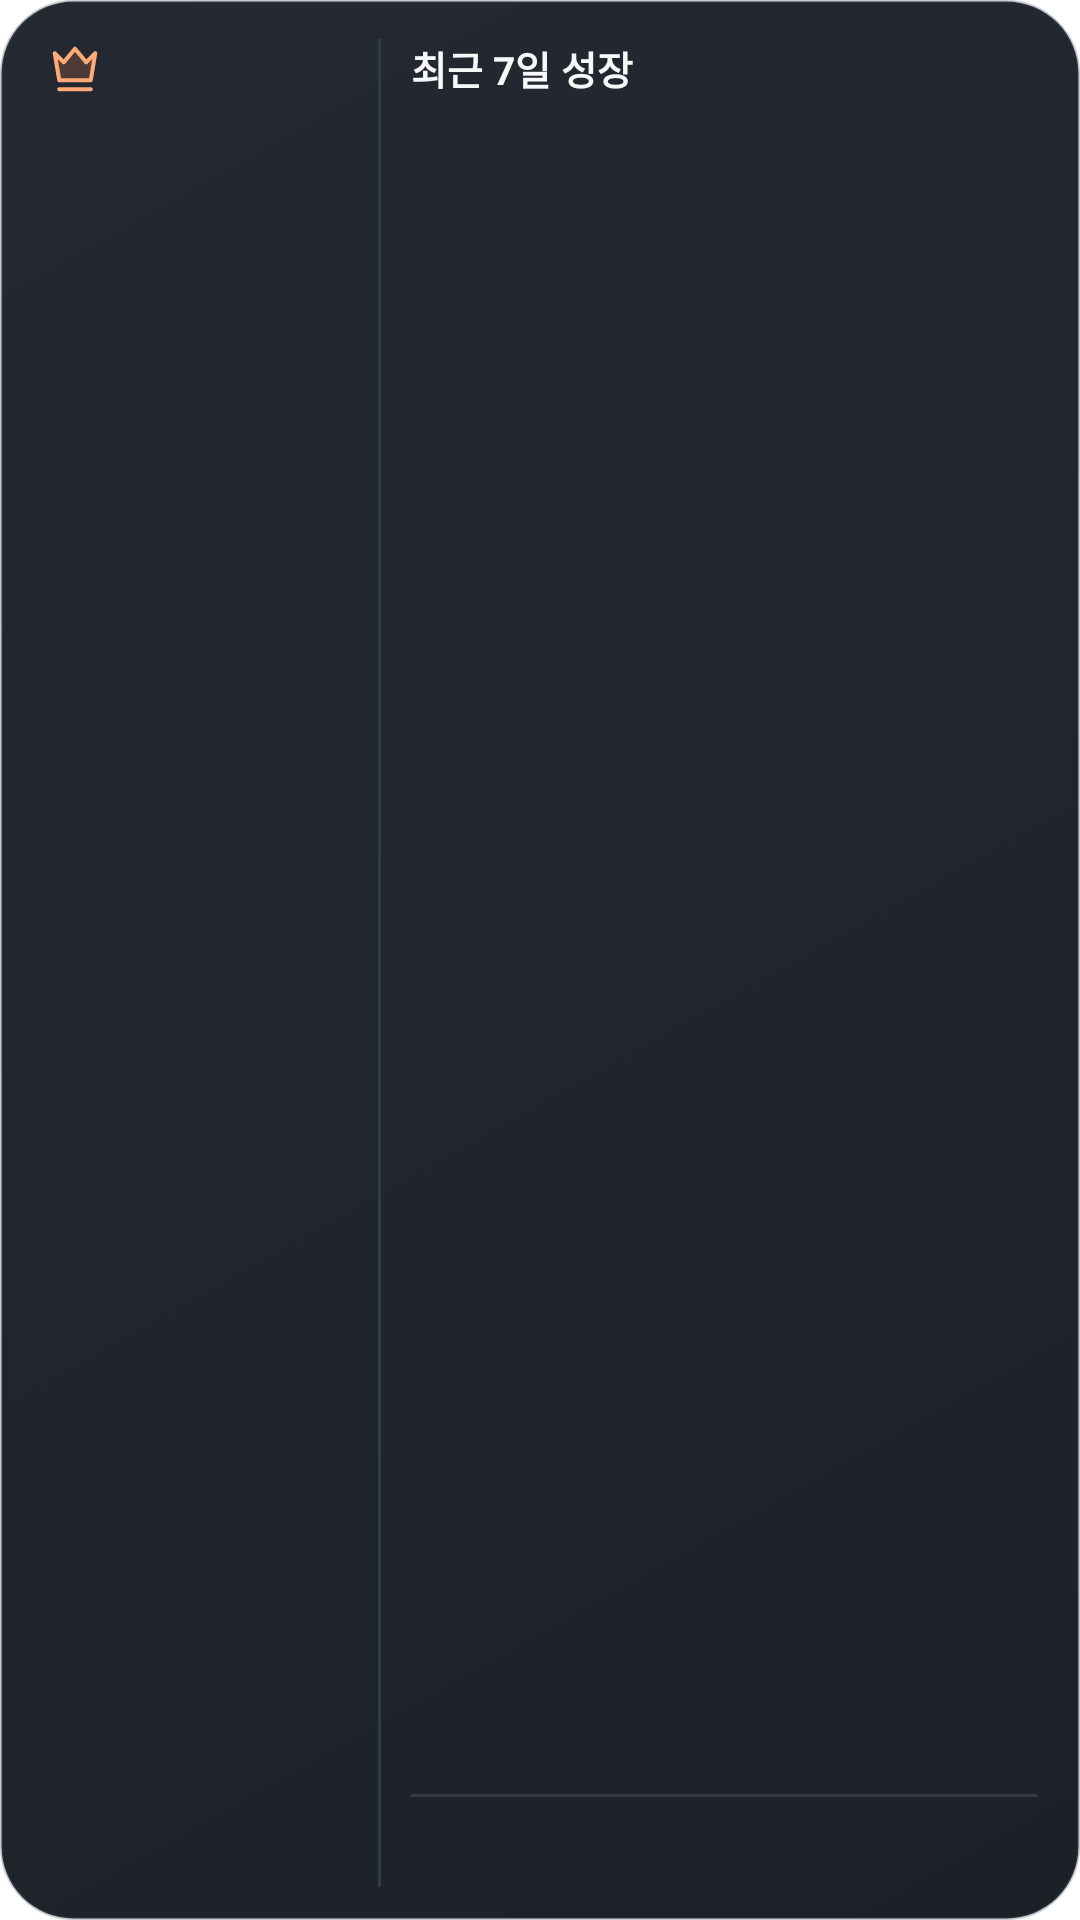

Where icons sit on this 1080×1920 app screen, as {"x1": x1, "y1": y1, "x2": x2, "y2": y2}:
대표 캐릭터: {"x1": 52, "y1": 46, "x2": 98, "y2": 92}
